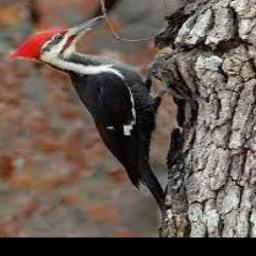Woodpecker: (9, 16, 168, 222)
